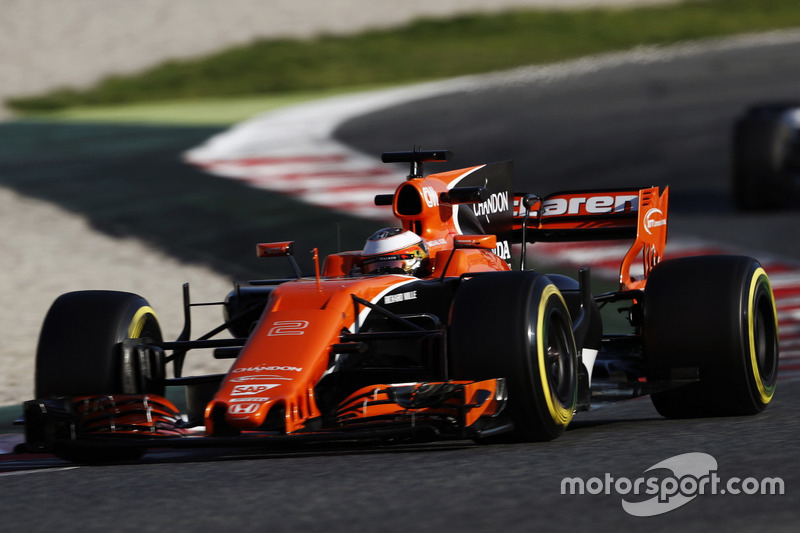F1 Car: (30, 147, 788, 466)
